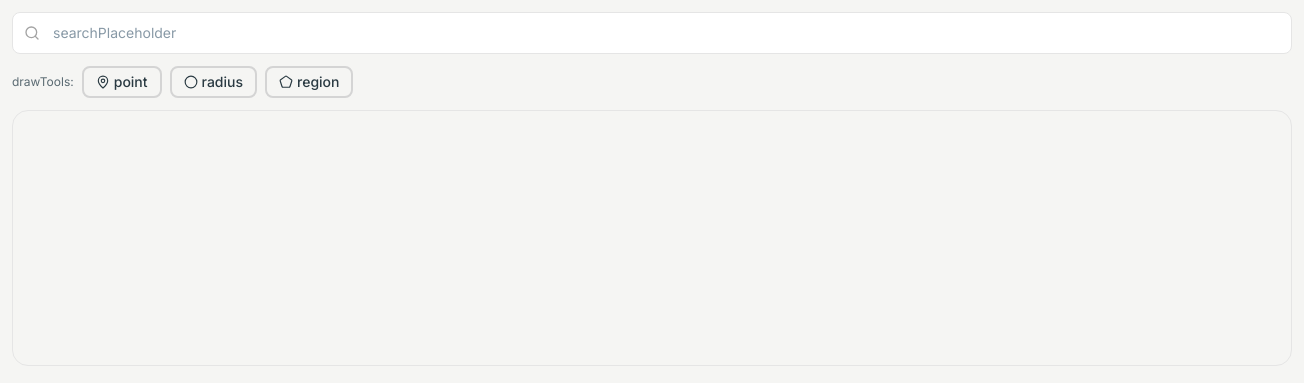
Test case: SpatialEditor Component › toggles drawing modes
The width and height of the screenshot is (1304, 383).
Click the button "point".
click(122, 82)  # box x1=82 y1=66 x2=162 y2=98
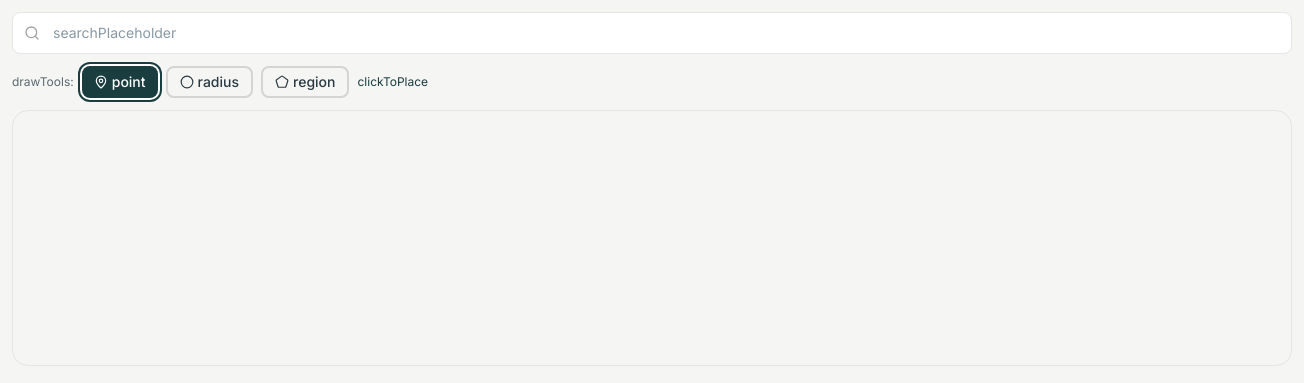
Now the text "clickToPlace" is shown, box x1=358 y1=74 x2=428 y2=90
Click the button "point".
click(120, 82)  # box x1=82 y1=66 x2=158 y2=98
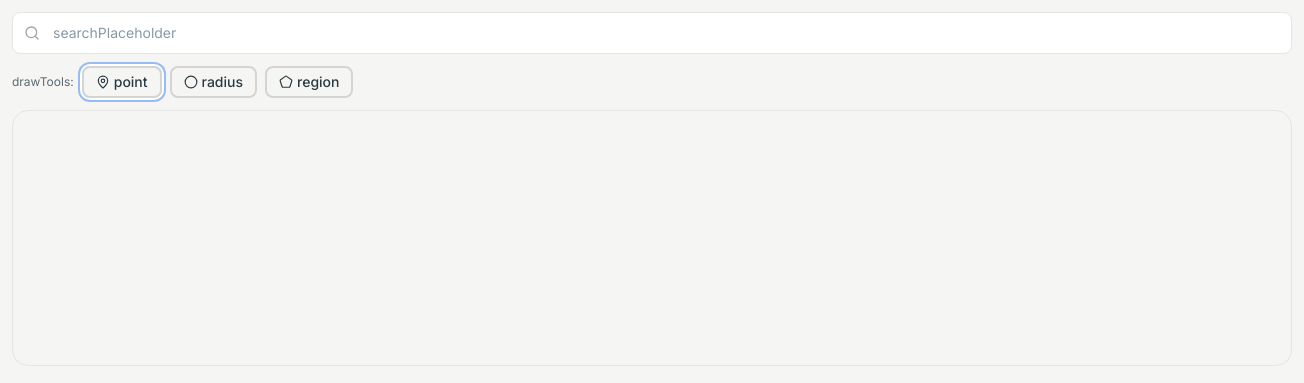
Now the text "clickToPlace" is gone
